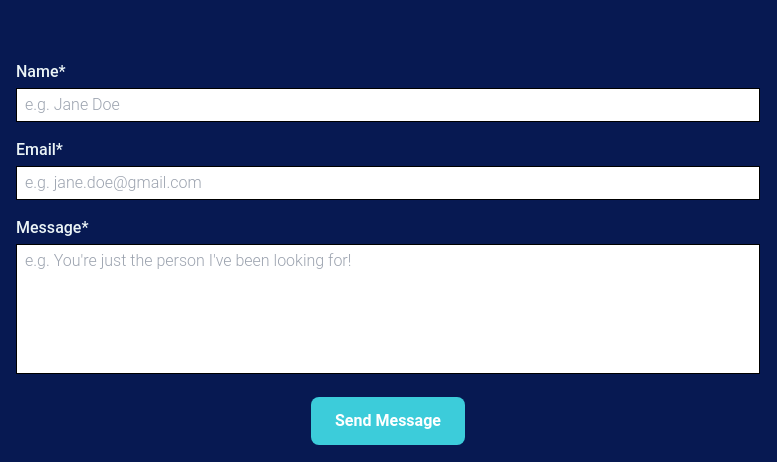
Test: submits the form successfully
In the field with placeholder "e.g. Jane Doe": (388, 105) [16,88,760,122], type "John Doe"
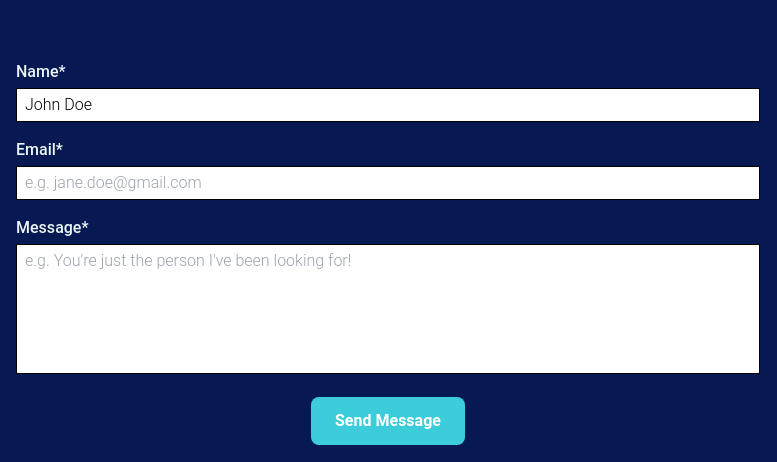
In the field with placeholder "e.g. jane.doe@gmail.com": (388, 183) [16,166,760,200], type "john.doe@example.com"
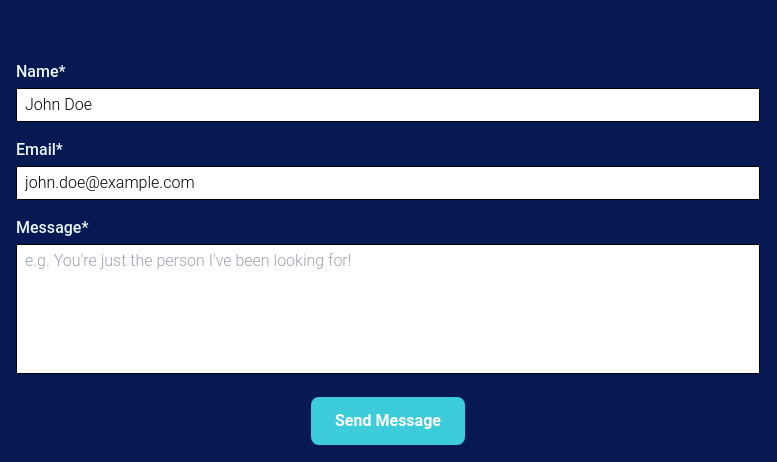
In the text box with placeholder "e.g. You're just the person I've been looking for!": (388, 309) [16,244,760,374], type "Hello!"
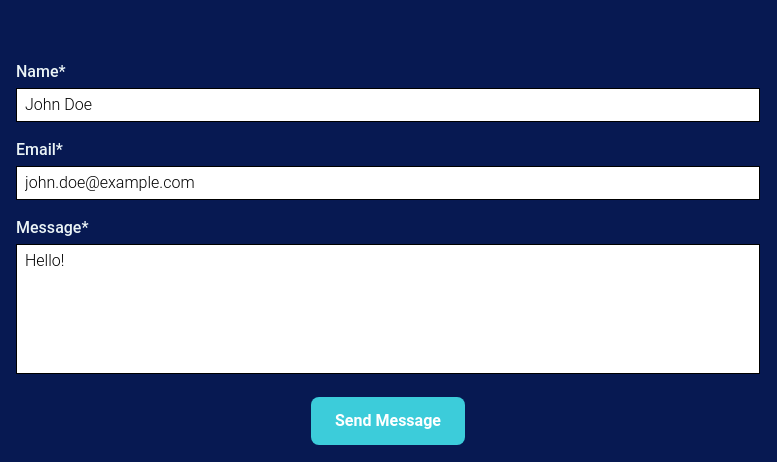
Click the button "Send Message": (388, 421) [311,397,465,445]
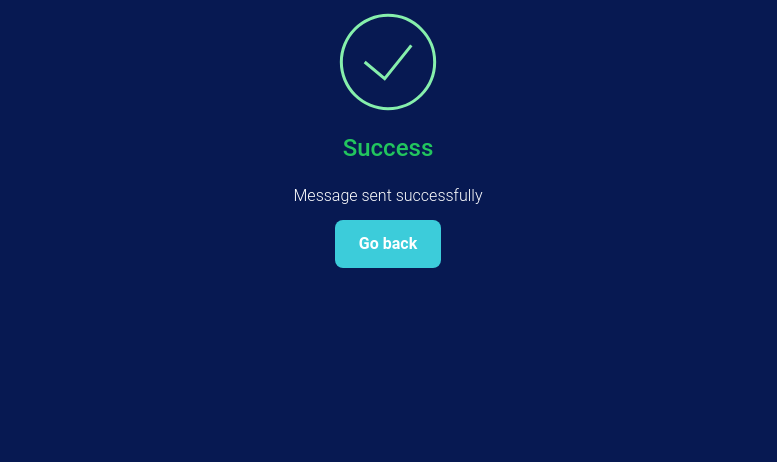
Check: the heading "Success" is shown, box [343,134,433,162]
Check: the text "Message sent successfully" is shown, box [282,184,494,208]
